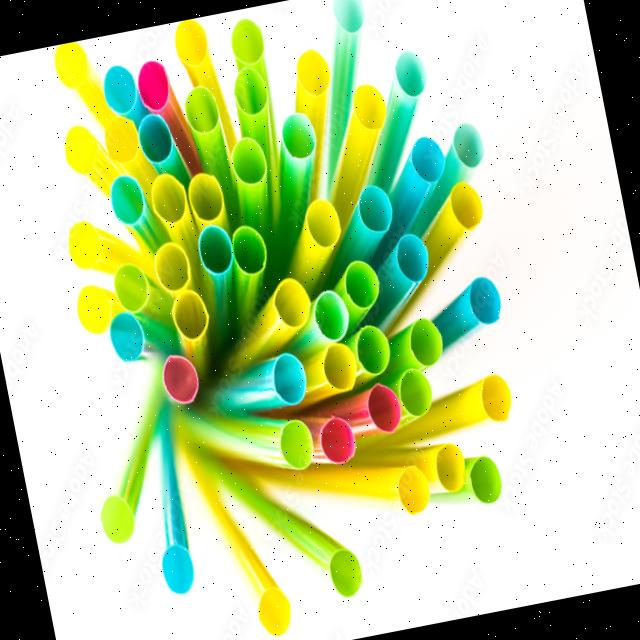plastic: (276, 494, 382, 630)
